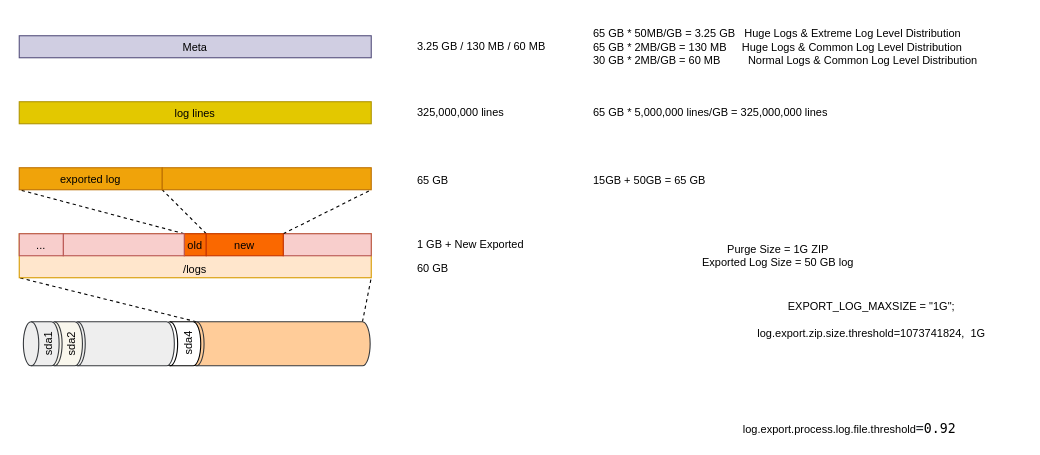
This 1040x455 diagram has some shape labels left out. Each missing label, with the centre of its shape:
"external-components" goes at point (123, 244).
"logbundles" goes at point (326, 244).
"new export log" goes at point (266, 178).
"sda3" goes at point (121, 343).
"sda5 60G" goes at point (279, 343).
